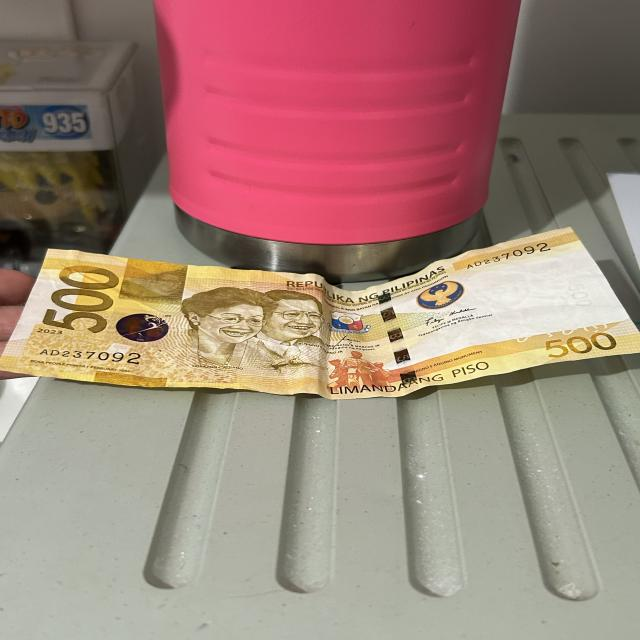concealed_value: (126, 260, 181, 299)
optically_variable_device: (120, 311, 167, 345)
security_thread: (372, 288, 417, 384)
see_through_mark: (512, 316, 610, 341)
serial_number: (30, 341, 145, 373), (461, 240, 552, 271)
value: (44, 262, 118, 333)
value_watermark: (573, 280, 600, 308)
watermark: (461, 252, 599, 326)
